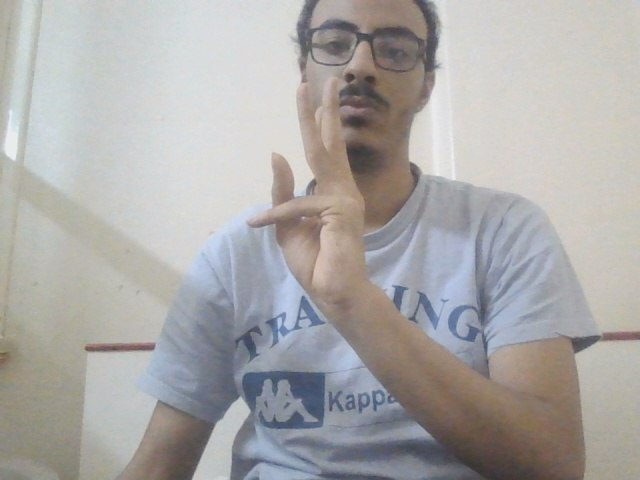Water: (244, 71, 387, 321)
